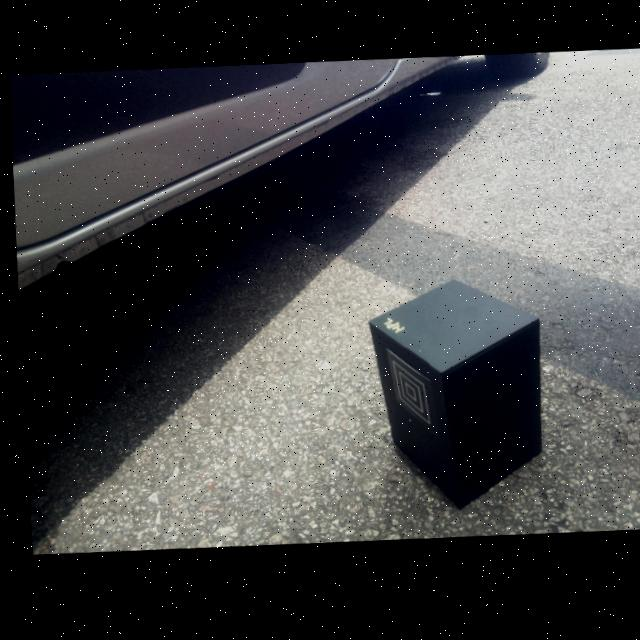BULLSEYE: (382, 354, 426, 430)
